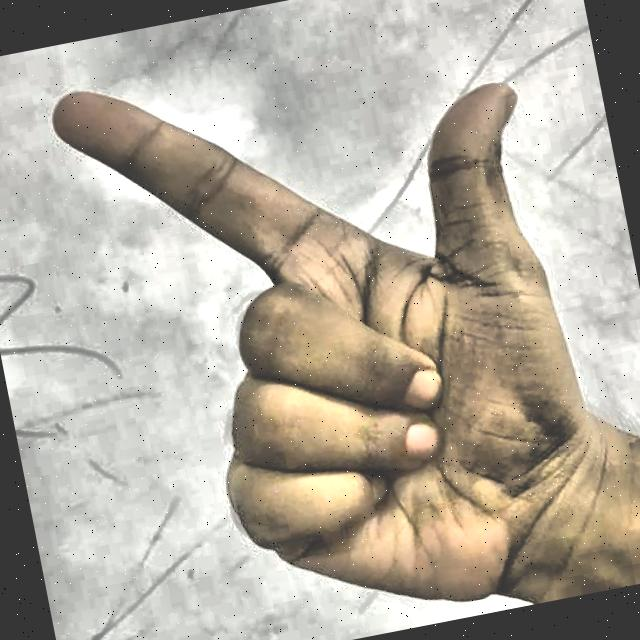Tha: (23, 0, 640, 640)
